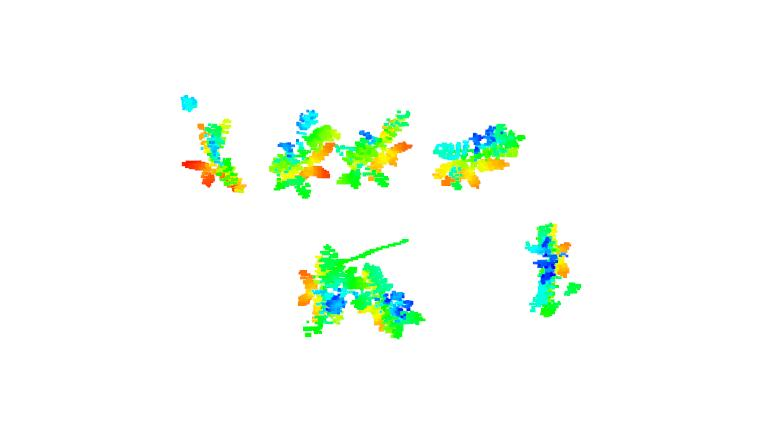chickpea: (426, 119, 526, 193), (333, 107, 414, 191), (269, 104, 337, 201), (524, 220, 585, 319), (296, 244, 359, 337), (179, 117, 253, 195), (357, 259, 423, 340)
